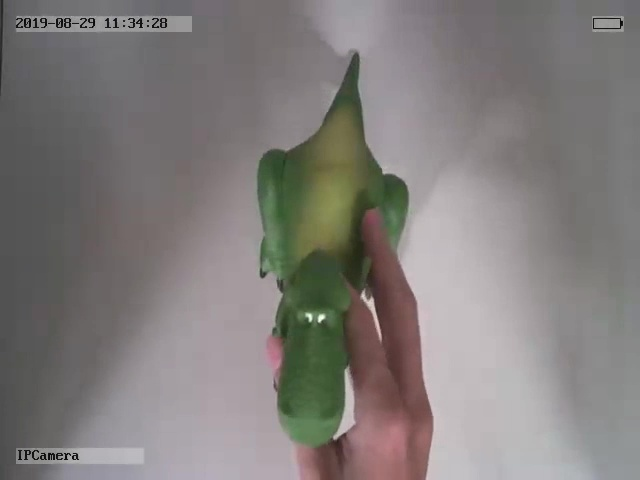rex: (254, 49, 410, 445)
